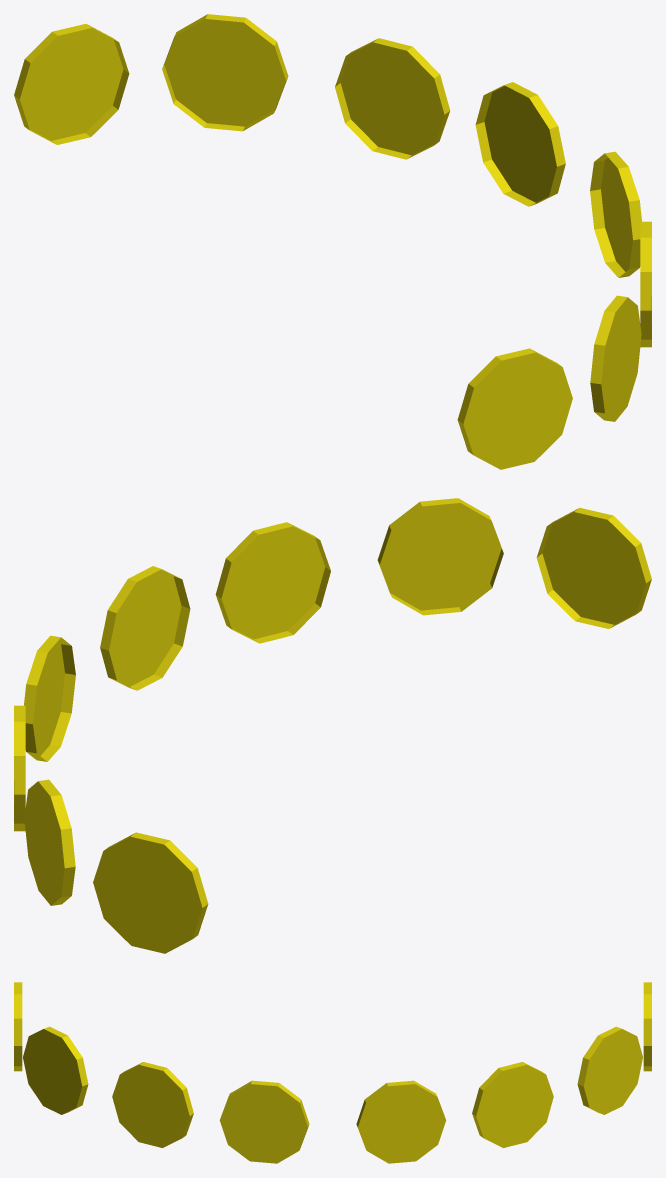
Rendered from back_sonar.dae.
The picture shows the model from 3 angles, top to bottom: view 1: azimuth 30°, elevation 25°; view 2: azimuth 150°, elevation 25°; view 3: azimuth 270°, elevation 25°; orthographic projection. The views are drawn at different scales.
Parts seen in each view (by area): view 1: node0; view 2: node0; view 3: node0.
Boxes of the visible parts, x1,y1,x2,y2 form: node0: (14, 14, 651, 469); node0: (14, 498, 651, 953); node0: (14, 982, 651, 1163).
Size of the model in its own units: 0.1221 by 0.2758 by 0.037.
